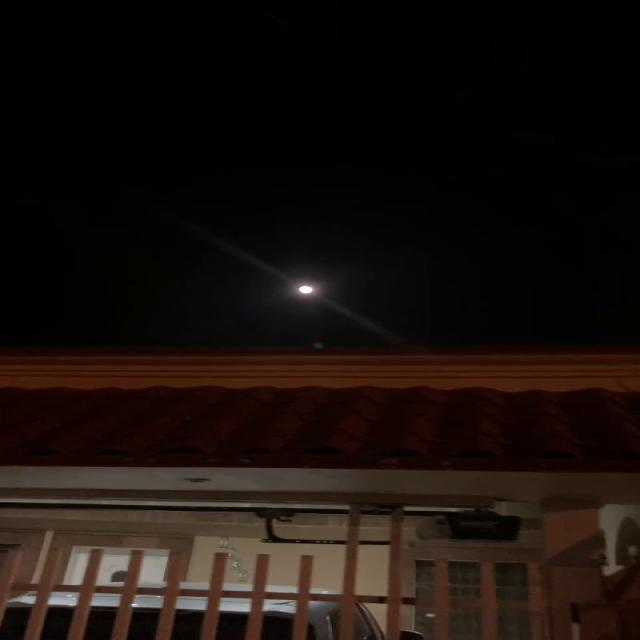moon: (290, 275, 320, 301)
